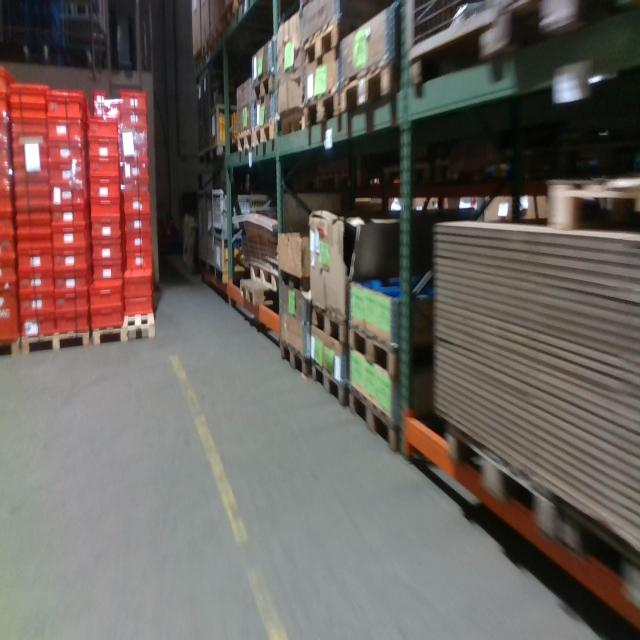pallet: (443, 422, 550, 541), (559, 499, 638, 605), (345, 312, 445, 379), (549, 169, 638, 236), (348, 379, 424, 451), (342, 58, 402, 128), (90, 293, 157, 346), (303, 17, 378, 64), (23, 326, 93, 357), (310, 298, 356, 344), (310, 359, 348, 407), (303, 90, 340, 137), (280, 335, 315, 383), (237, 276, 285, 305), (245, 258, 284, 287), (278, 262, 314, 293), (250, 69, 277, 104), (280, 106, 303, 140), (256, 118, 276, 148), (222, 4, 236, 40), (1, 337, 22, 358), (236, 128, 255, 150), (234, 0, 255, 17), (212, 21, 223, 52), (202, 39, 212, 61)
small_load_carrier: (45, 87, 86, 115), (47, 118, 85, 148), (0, 286, 18, 347), (48, 177, 89, 203), (18, 312, 55, 340), (90, 279, 122, 310), (88, 258, 121, 288), (20, 290, 55, 318), (53, 222, 91, 247), (123, 270, 156, 298), (92, 303, 125, 331), (53, 265, 91, 289), (15, 246, 51, 270), (53, 288, 89, 312), (48, 203, 90, 222), (119, 252, 153, 275), (15, 270, 54, 290), (47, 143, 86, 163), (94, 237, 124, 263), (87, 159, 122, 180), (124, 298, 156, 320), (57, 313, 92, 333), (53, 247, 91, 265), (87, 120, 121, 140), (90, 180, 122, 201), (12, 85, 46, 104), (120, 180, 151, 200), (123, 215, 151, 237), (91, 218, 122, 237), (47, 163, 89, 177), (87, 142, 121, 159), (14, 117, 46, 135), (13, 148, 48, 164), (16, 231, 51, 246), (16, 216, 49, 231), (120, 93, 150, 109), (16, 186, 44, 203), (122, 113, 148, 131), (120, 200, 151, 215), (12, 135, 47, 148), (0, 258, 16, 286), (17, 202, 49, 216), (123, 163, 151, 179), (122, 146, 148, 163), (123, 237, 153, 251), (14, 104, 46, 117), (19, 170, 45, 186), (2, 72, 16, 98), (122, 131, 148, 145), (0, 166, 12, 192), (3, 214, 13, 238), (2, 144, 12, 166), (0, 192, 13, 208), (3, 239, 16, 255), (1, 98, 9, 120), (3, 120, 9, 144)
stillage: (403, 2, 517, 89), (209, 185, 278, 236), (205, 65, 234, 160), (213, 233, 260, 284), (208, 104, 248, 159), (206, 187, 220, 279), (195, 195, 205, 273), (196, 77, 205, 159)
